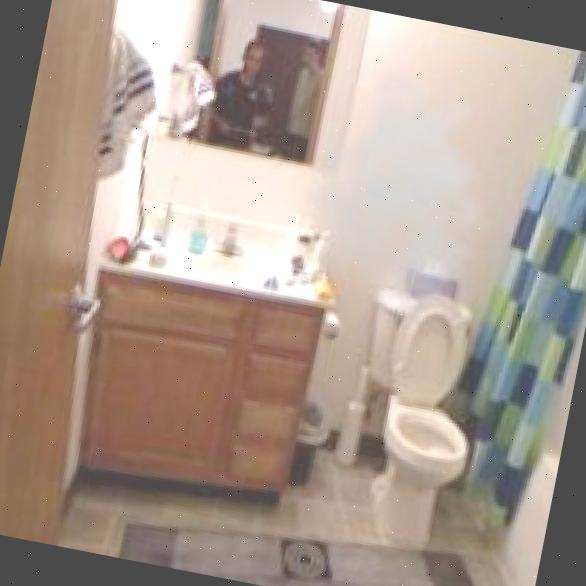smoke: (279, 55, 529, 337)
